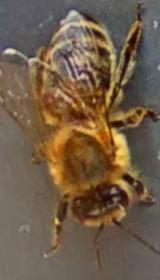varroa_mite: (34, 91, 65, 115)
